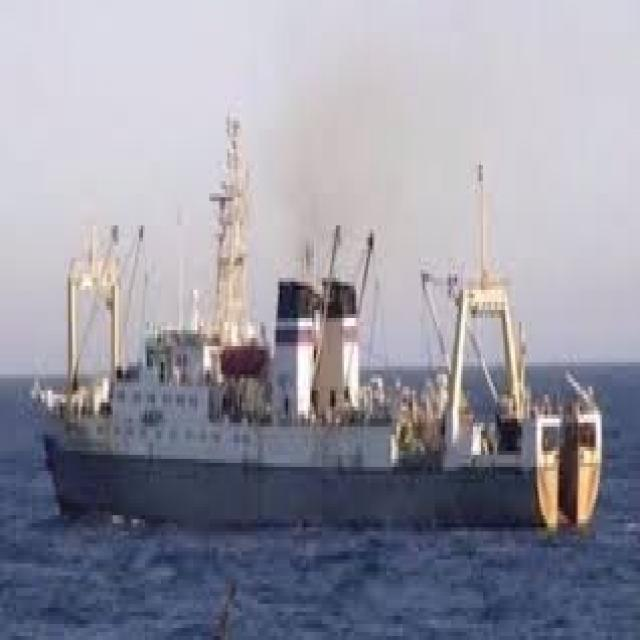Ship: (17, 94, 619, 561)
